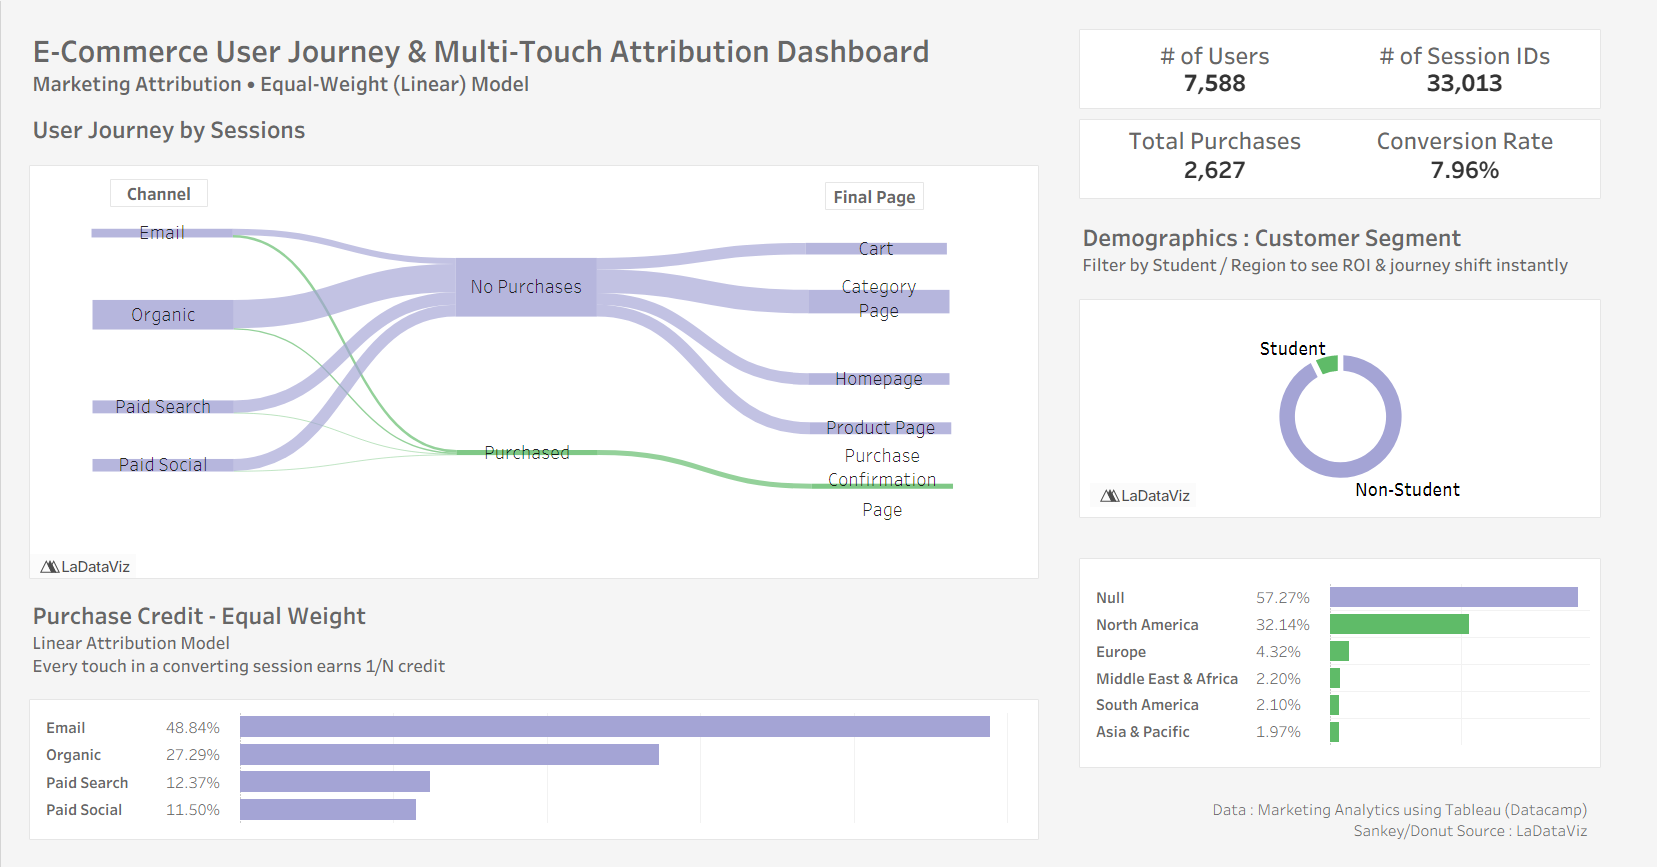

Layout of this report page (visuals, bound fields, positions):
{"tool":"tableau","page":{"name":"Dashboard 1","canvas":[1628,867],"ordinal":0},"visuals":[{"type":"text","box":[8,8,1050.1,104]},{"type":"worksheet","title":"KPIs","mark":"Automatic","box":[1058.1,8,562,110]},{"type":"text","box":[8,112,1050.1,32]},{"type":"worksheet","title":"KPI 2","mark":"Automatic","box":[1058.1,118,562,100]},{"type":"worksheet","title":"Session Flows","box":[8,144,1050.1,454]},{"type":"text","box":[109,178,98,28]},{"type":"text","box":[824,181,99,28]},{"type":"text","box":[1058.1,218,562,60]},{"type":"worksheet","title":"Demographics","box":[1058.1,278,562,259]},{"type":"worksheet","title":"Demographics 2","mark":"Bar","rows":["Geography","Calculation_1755840909587165184"],"cols":["Session ID"],"box":[1058.1,537,562,250]},{"type":"text","box":[8,598,1050.1,80]},{"type":"worksheet","title":"Purchase Credit - Equal Weight","mark":"Automatic","rows":["Channel","Calculation_1755840909628403718"],"cols":["Calculation_1755840909623943171"],"box":[8,678,1050.1,181]},{"type":"text","box":[1058.1,787,562,72]}]}

Visuals, with their boxes in screenshot pixels (x1, y1, x2, y2), scaled from the page's 1628x867 canvas onto the 1657x867 screenshot:
text: bbox(8, 8, 1077, 112)
"KPIs" worksheet: bbox(1077, 8, 1649, 118)
text: bbox(8, 112, 1077, 144)
"KPI 2" worksheet: bbox(1077, 118, 1649, 218)
"Session Flows" worksheet: bbox(8, 144, 1077, 598)
text: bbox(111, 178, 211, 206)
text: bbox(839, 181, 939, 209)
text: bbox(1077, 218, 1649, 278)
"Demographics" worksheet: bbox(1077, 278, 1649, 537)
"Demographics 2" worksheet (Bar marks): bbox(1077, 537, 1649, 787)
text: bbox(8, 598, 1077, 678)
"Purchase Credit - Equal Weight" worksheet: bbox(8, 678, 1077, 859)
text: bbox(1077, 787, 1649, 859)
